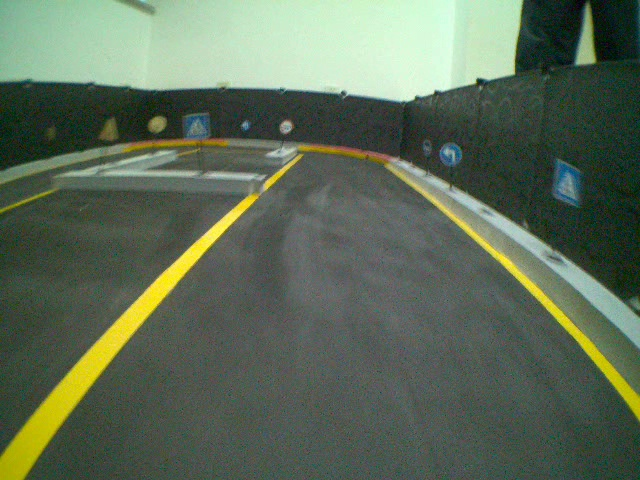Check: (278, 119, 295, 135)
crossing: (552, 157, 582, 206), (182, 113, 210, 142)
turn: (440, 141, 463, 167)
